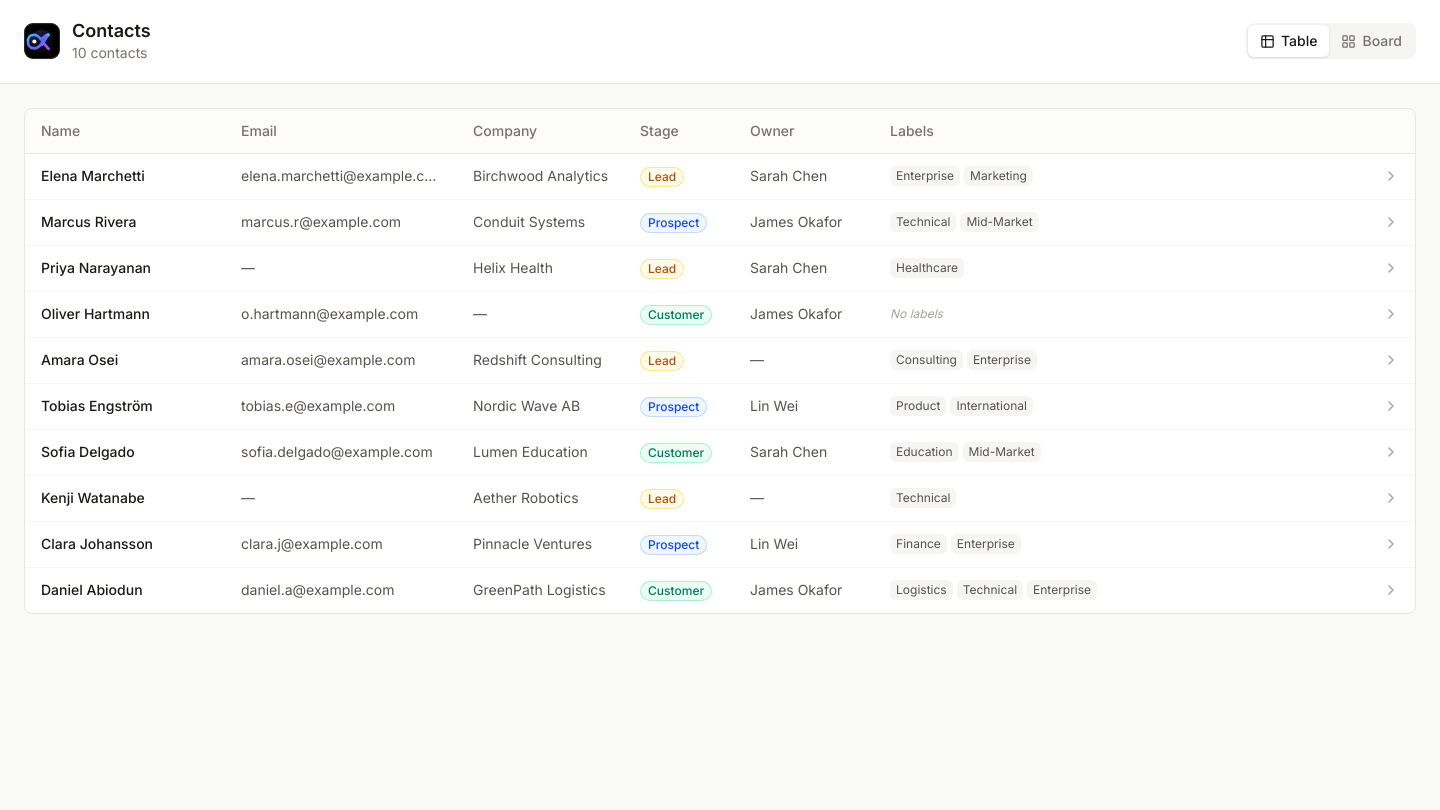
Test: App Component Integration › edits stage and notes, cancels changes safely
Click the button with aria-label "open details for elena marchetti": [93, 176] box [25,153,1415,199]
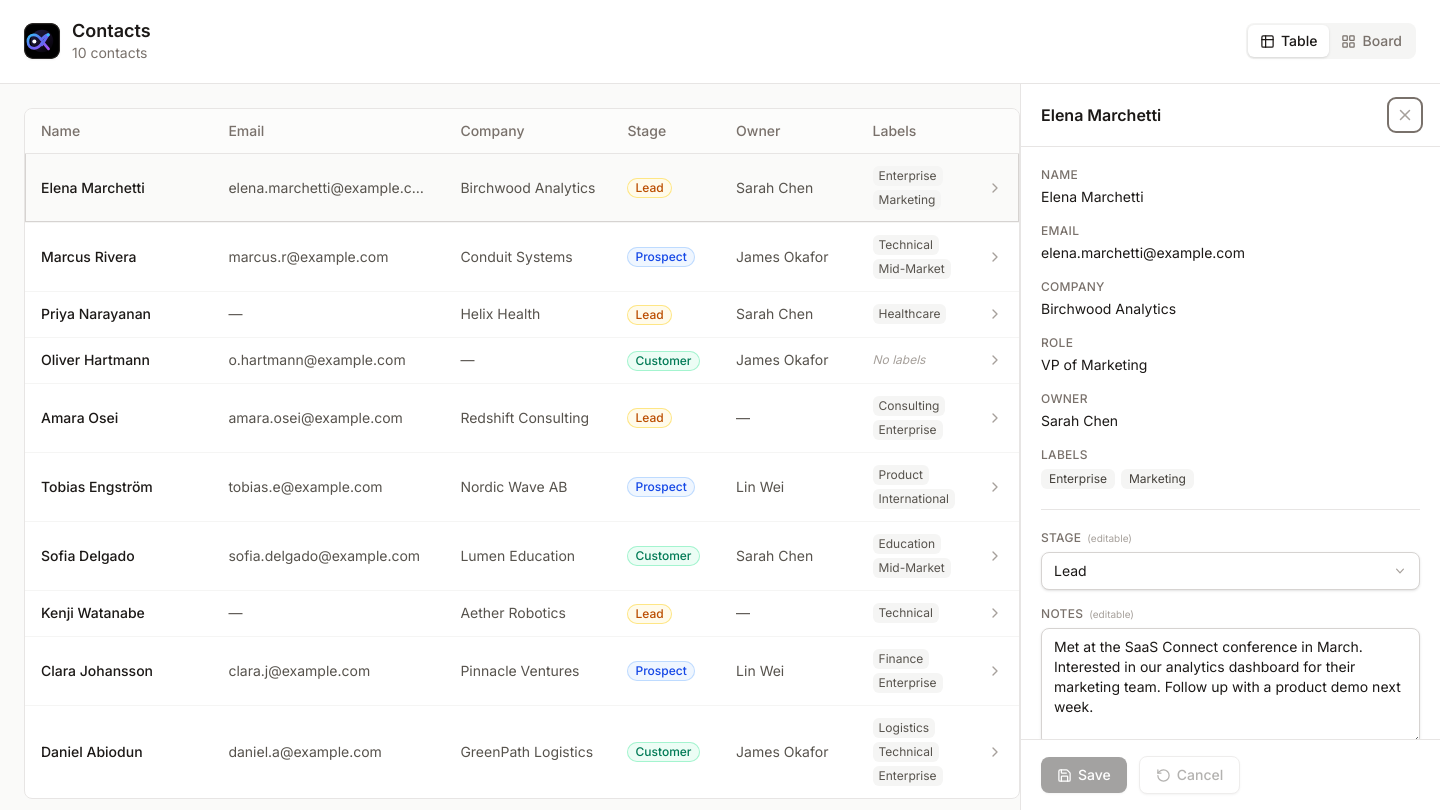
// Change stage to Prospect
Select "Prospect" in the dropdown labelled "Stage(editable)": [1230, 570] box [1041,552,1420,590]
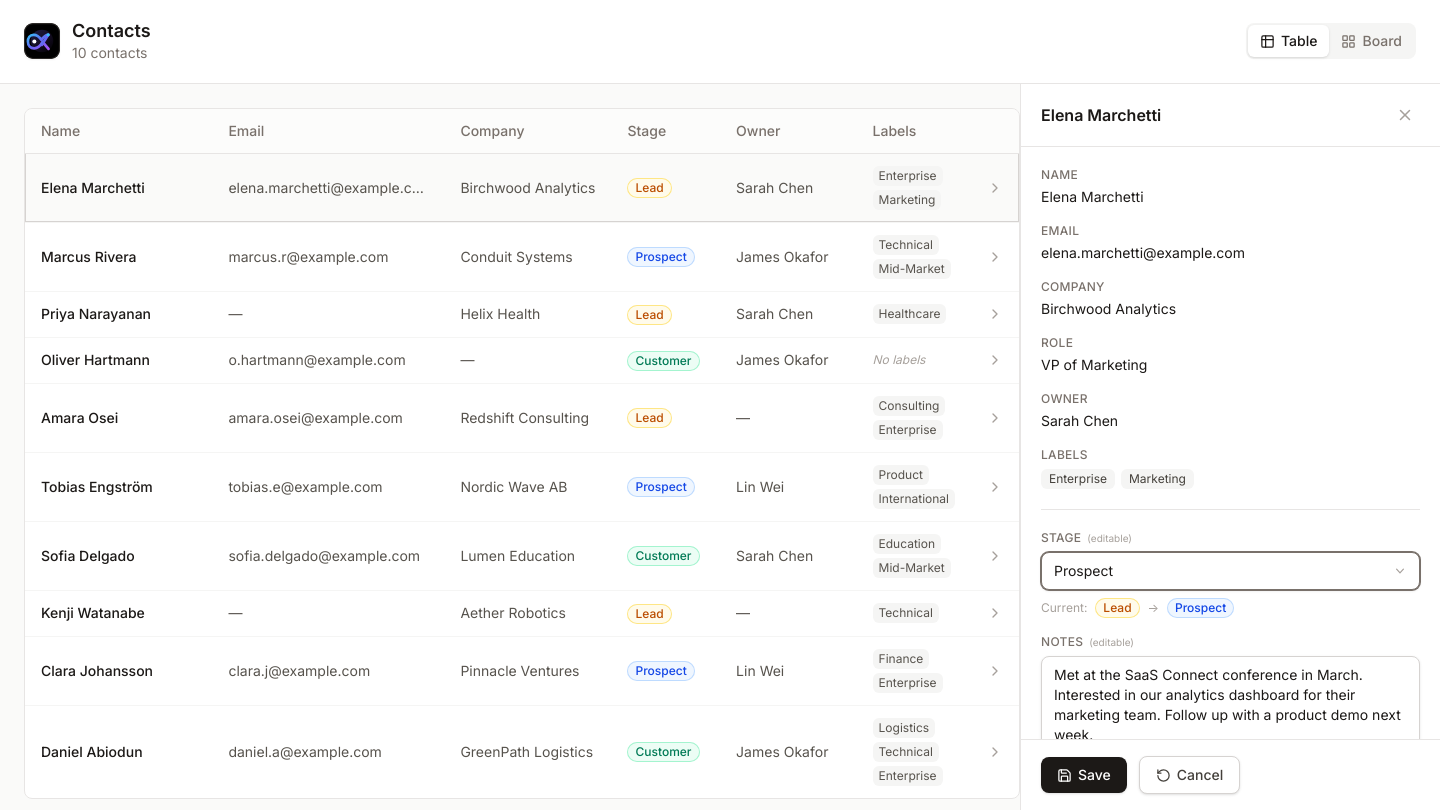
Expected: the button "Save" is enabled, [1041,757,1127,793]
Expected: the button "Cancel" is enabled, [1139,756,1240,794]
// Modify notes
In the text box labelled "Notes(editable)": [1230, 714] box [1041,656,1420,774], type " Additional test note."
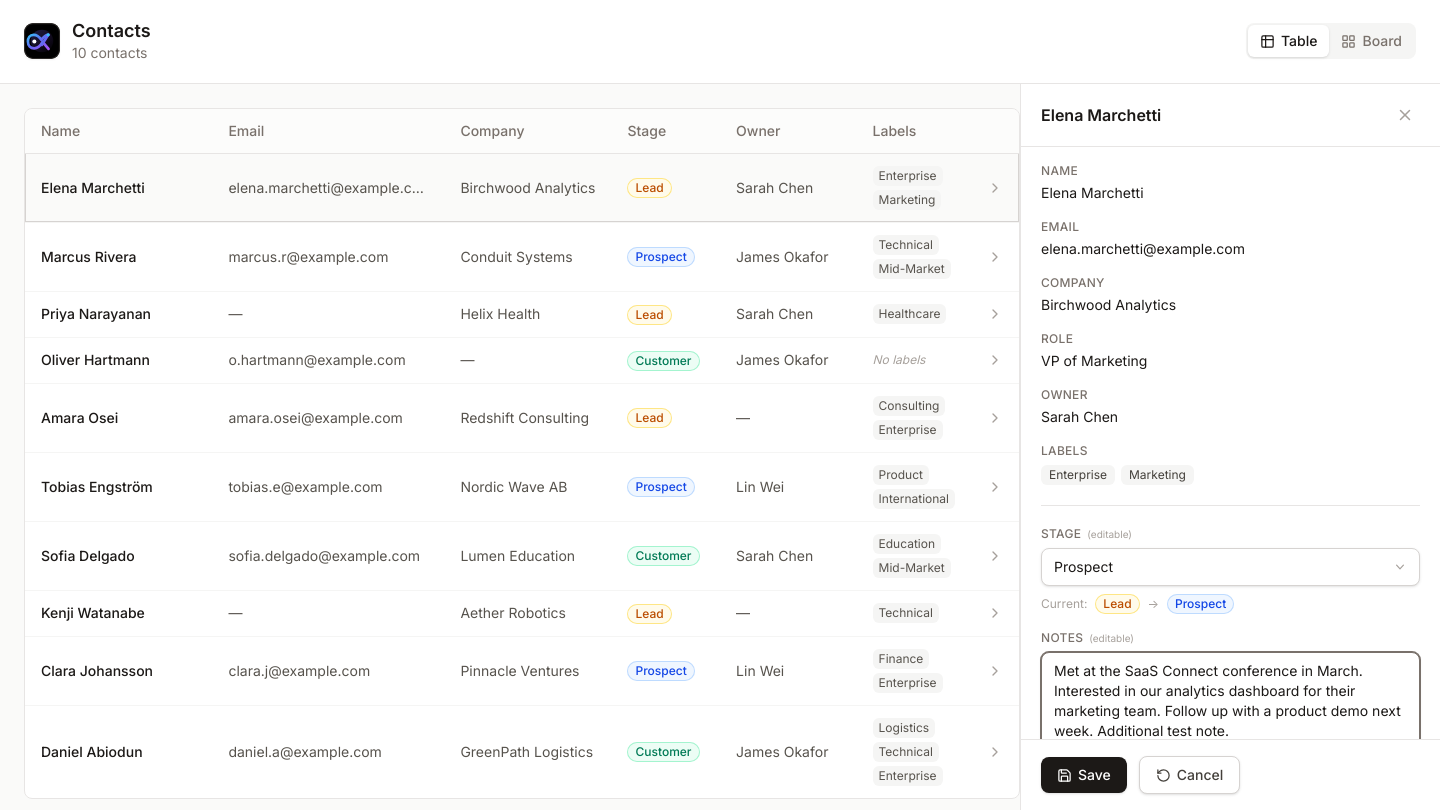
// Cancel changes
Click the button "Cancel": [1190, 775] box [1139,756,1240,794]
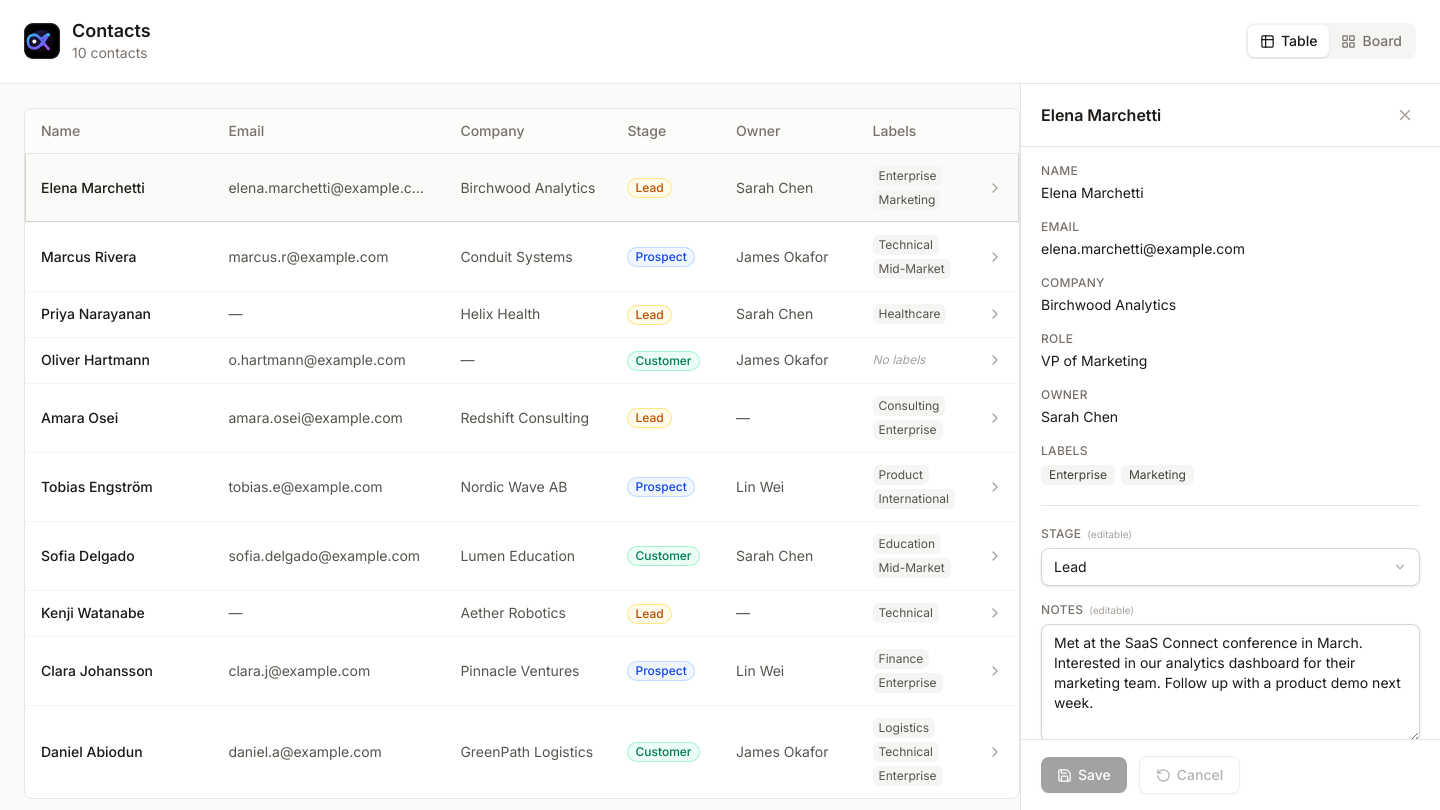
Expected: the button "Save" is disabled, [1041,757,1127,793]
Expected: the button "Cancel" is disabled, [1139,756,1240,794]
